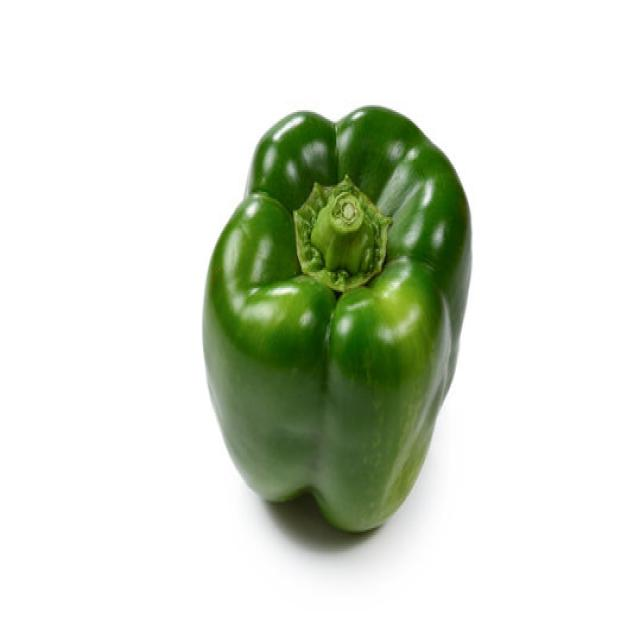Bell Pepper: (200, 103, 472, 533)
